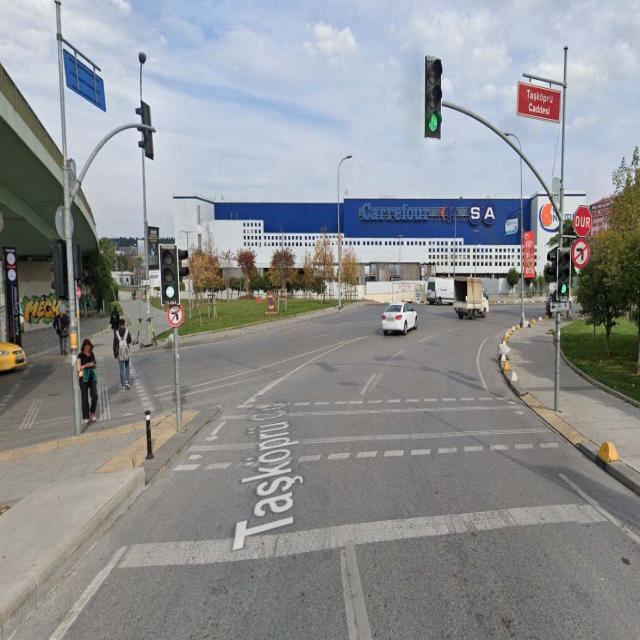dur: (573, 204, 592, 237)
soladonulmez: (572, 240, 589, 268)
yesil: (425, 54, 440, 138), (159, 244, 178, 304), (556, 245, 570, 302)
